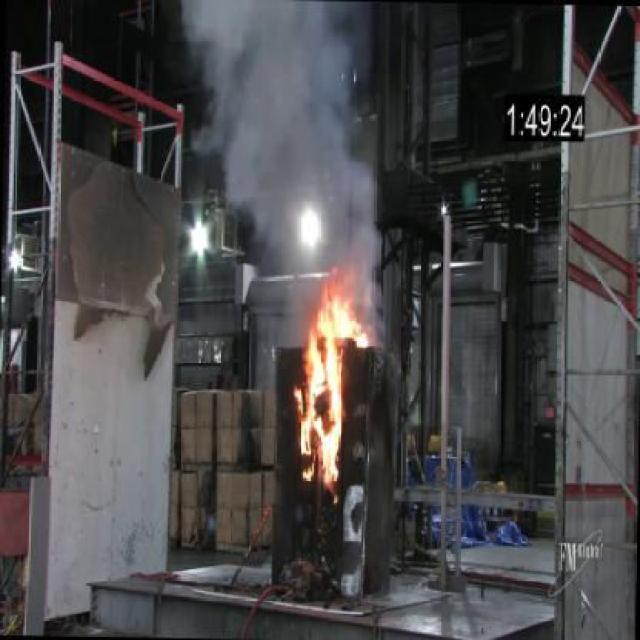fire: (179, 0, 381, 265)
smoke: (290, 324, 348, 492), (313, 267, 370, 350)
